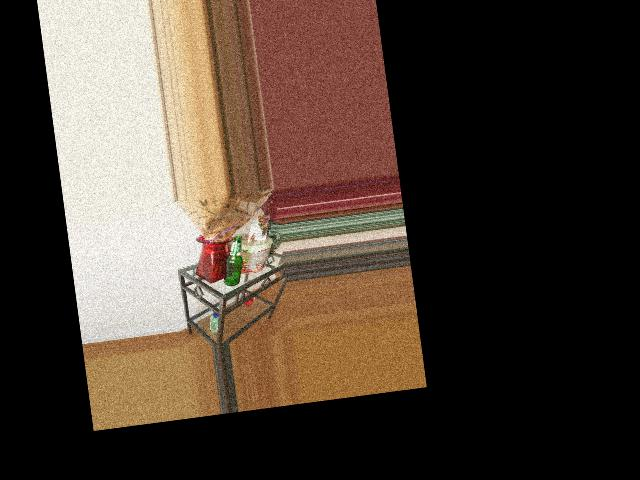beer: (218, 235, 247, 287)
